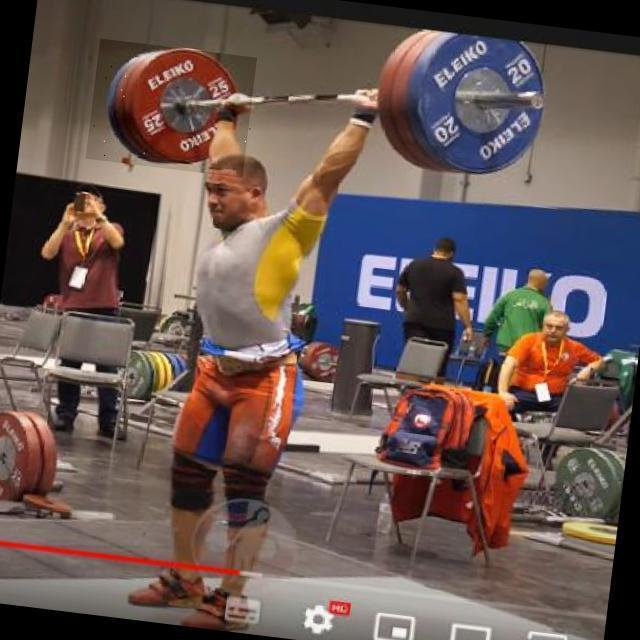barbell: (86, 39, 260, 179)
